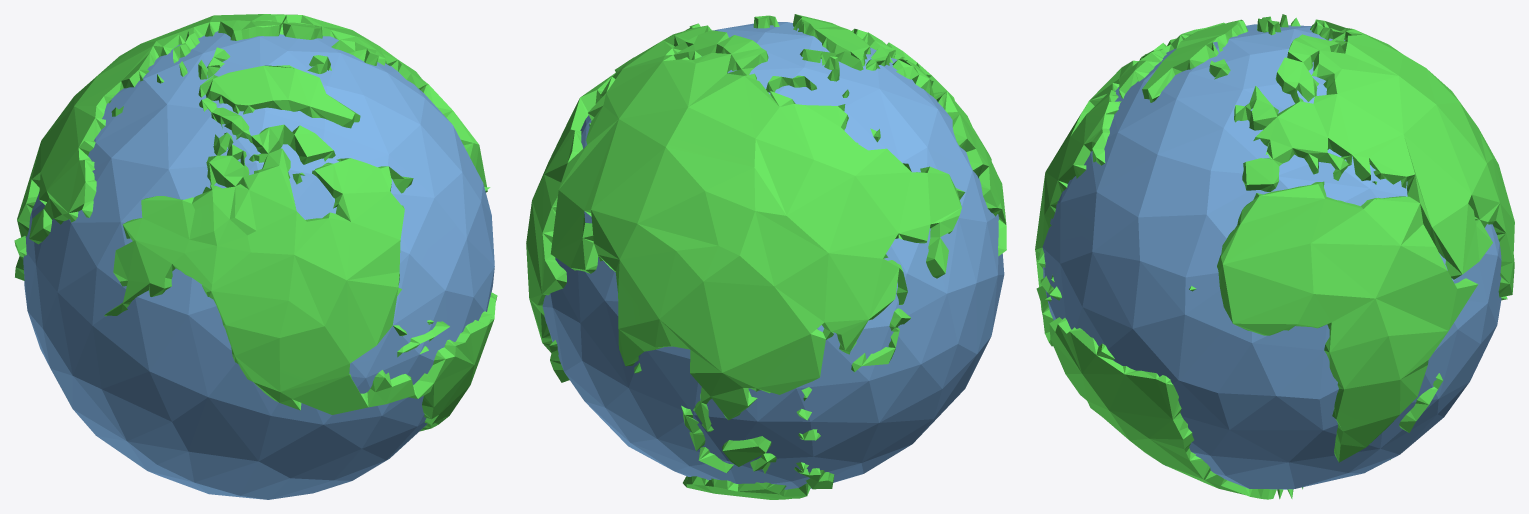
File: earth.glb
The picture shows the model from 3 angles, left to right: view 1: azimuth 30°, elevation 25°; view 2: azimuth 150°, elevation 25°; view 3: azimuth 270°, elevation 25°; orthographic projection.
Parts seen in each view (by area): view 1: low_poly_earth; view 2: low_poly_earth; view 3: low_poly_earth.
Boxes of the visible parts, x1,y1,x2,y2 form: low_poly_earth: [14, 14, 497, 499]; low_poly_earth: [526, 14, 1006, 499]; low_poly_earth: [1035, 14, 1514, 499].
Bounding box in the file's own units: 1.95 × 2.01 × 1.99.
